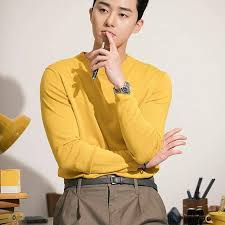F_belt: (59, 167, 162, 194)
